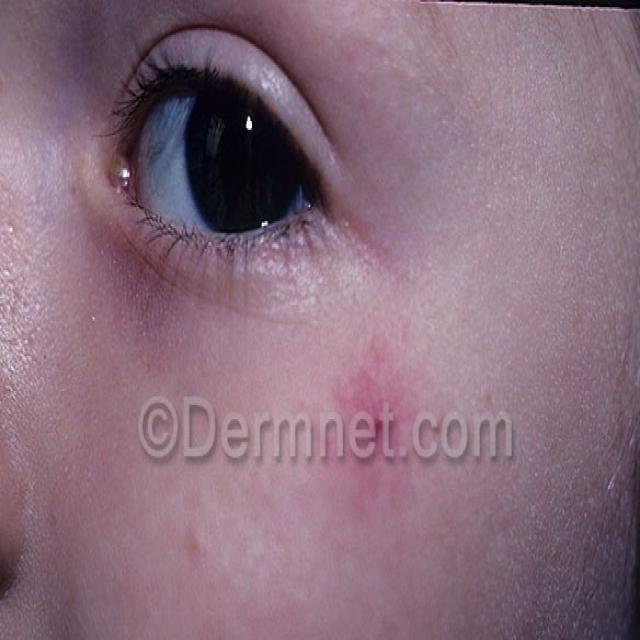Vascular Tumors: (308, 316, 446, 517)
